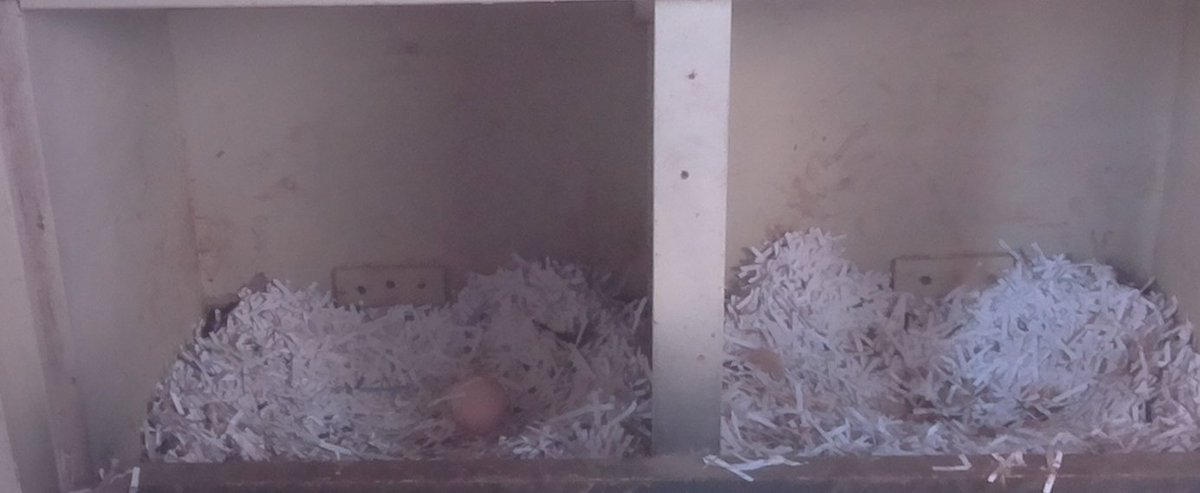egg: (442, 369, 515, 446)
